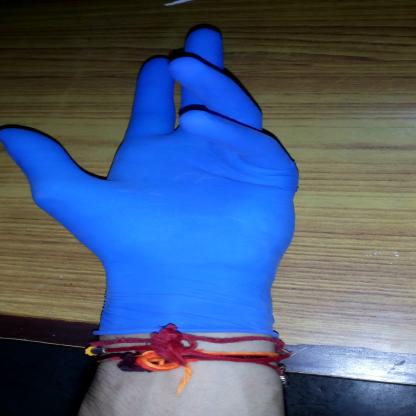gloved_hand: (0, 22, 302, 344)
